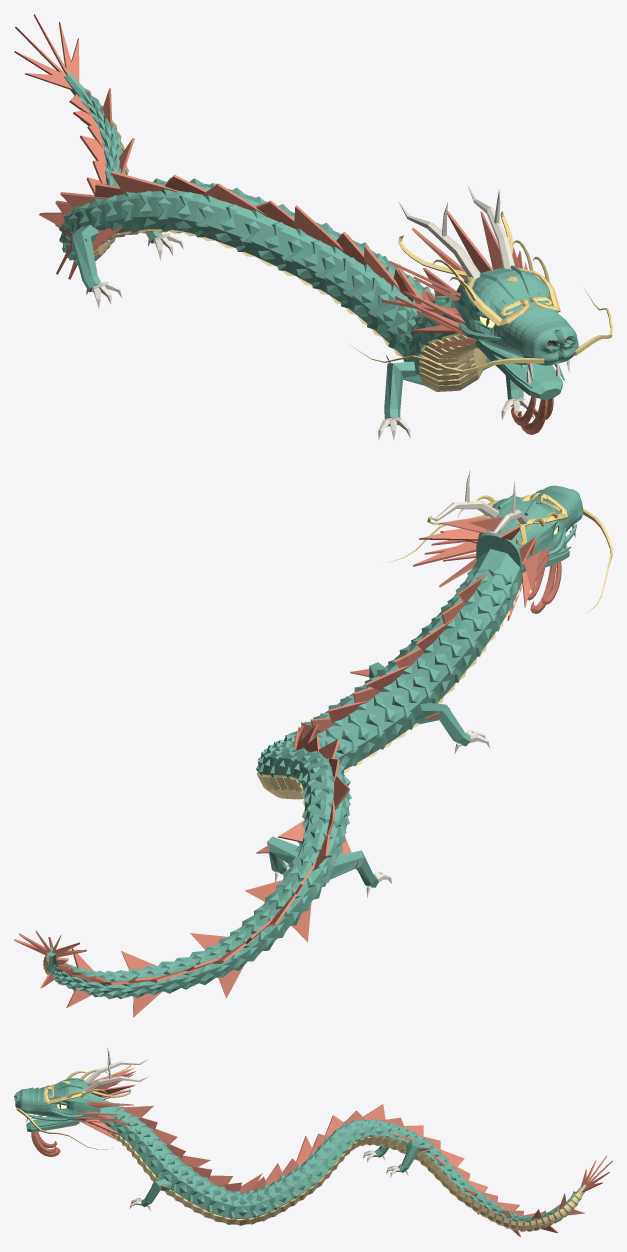
File: Dragon_Long_v5.glb
3 renders of one model, top to bottom at view 1: azimuth 30°, elevation 25°; view 2: azimuth 150°, elevation 25°; view 3: azimuth 270°, elevation 25°, orthographic. The views are drawn at different scales.
Parts seen in each view (by area): view 1: Body, Fins, Belly, Horns, Whiskers; view 2: Body, Fins, Horns, Whiskers, Belly; view 3: Body, Fins, Belly, Horns, Whiskers.
Boxes of the visible parts, x1=… form: Body: x1=59, y1=72, x2=578, y2=419; Fins: x1=14, y1=14, x2=553, y2=434; Belly: x1=84, y1=88, x2=487, y2=391; Horns: x1=86, y1=185, x2=569, y2=440; Whiskers: x1=351, y1=211, x2=612, y2=373; Body: x1=46, y1=485, x2=583, y2=999; Fins: x1=14, y1=516, x2=561, y2=1017; Horns: x1=275, y1=470, x2=575, y2=897; Whiskers: x1=387, y1=492, x2=612, y2=612; Belly: x1=43, y1=583, x2=522, y2=997; Body: x1=14, y1=1077, x2=584, y2=1230; Fins: x1=31, y1=1067, x2=612, y2=1237; Belly: x1=33, y1=1123, x2=586, y2=1231; Horns: x1=26, y1=1047, x2=408, y2=1210; Whiskers: x1=16, y1=1065, x2=130, y2=1149.
Bounding box in the file's own units: 14.48 × 19.17 × 58.
